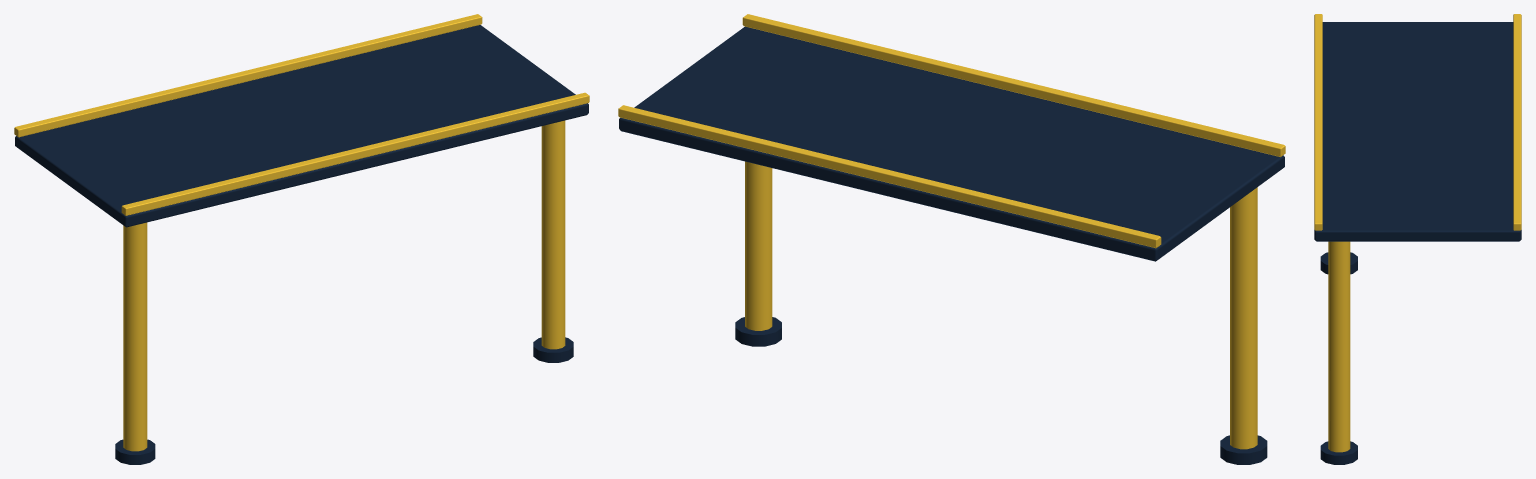
Rendered from CM_Shell_EntranceCanopy.fbx.
The picture shows the model from 3 angles, left to right: view 1: azimuth 30°, elevation 25°; view 2: azimuth 150°, elevation 25°; view 3: azimuth 270°, elevation 25°; orthographic projection. The views are drawn at different scales.
Visible parts, largest first — view 1: Body; view 2: Body; view 3: Body.
Boxes of the visible parts, left/top/right/bottom form: Body: left=14, top=14, right=589, bottom=464; Body: left=618, top=14, right=1285, bottom=464; Body: left=1314, top=14, right=1521, bottom=464.
Size of the model in its own units: 24 by 10 by 13.
1 material, 1 textured.
